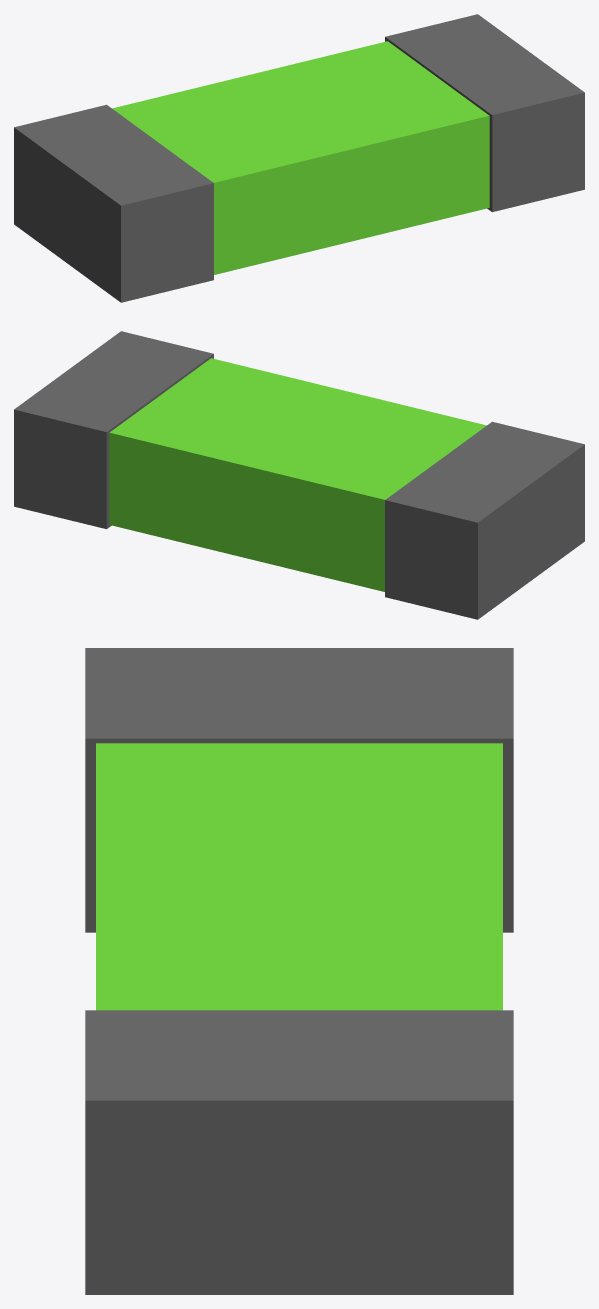
The model's file is LIM Basket.fbx.
The picture shows the model from 3 angles, top to bottom: view 1: azimuth 30°, elevation 25°; view 2: azimuth 150°, elevation 25°; view 3: azimuth 270°, elevation 25°; orthographic projection. The views are drawn at different scales.
Visible parts, largest first — view 1: Test Modle; view 2: Test Modle; view 3: Test Modle.
Boxes of the visible parts, left/top/right/bottom form: Test Modle: left=14, top=14, right=584, bottom=302; Test Modle: left=14, top=331, right=584, bottom=619; Test Modle: left=85, top=648, right=513, bottom=1294.
Size of the model in its own units: 200 by 100 by 500.
